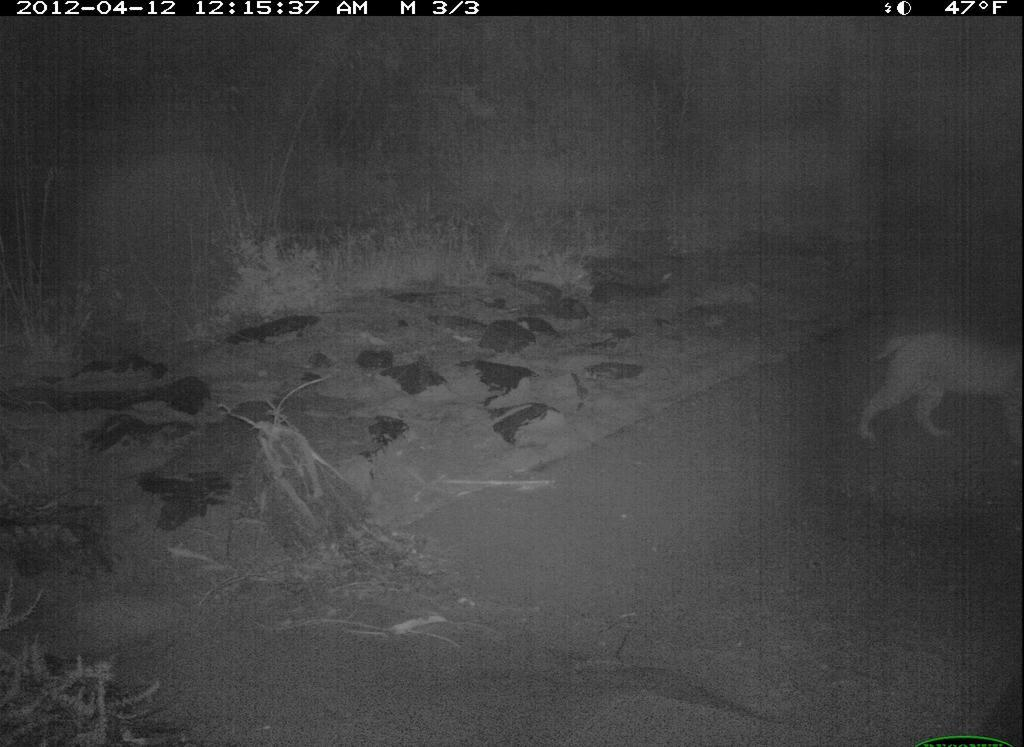bobcat: (841, 308, 1017, 451)
